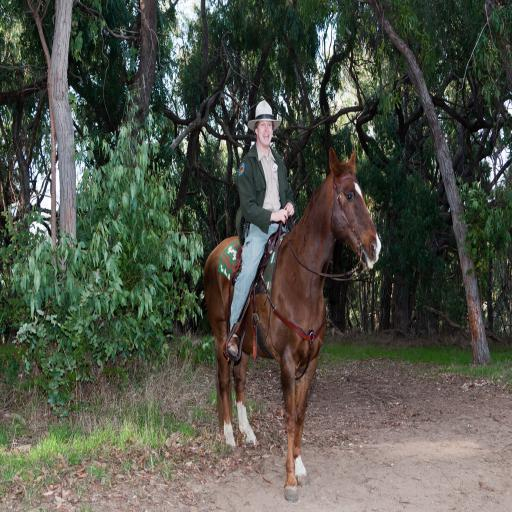horse: (202, 146, 383, 501)
